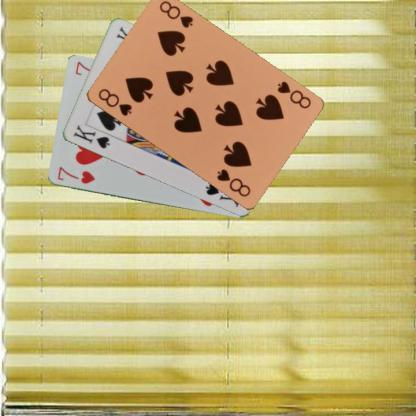7h: (55, 164, 96, 186)
8s: (274, 78, 312, 110), (95, 86, 133, 117)
Ks: (70, 122, 111, 150)
